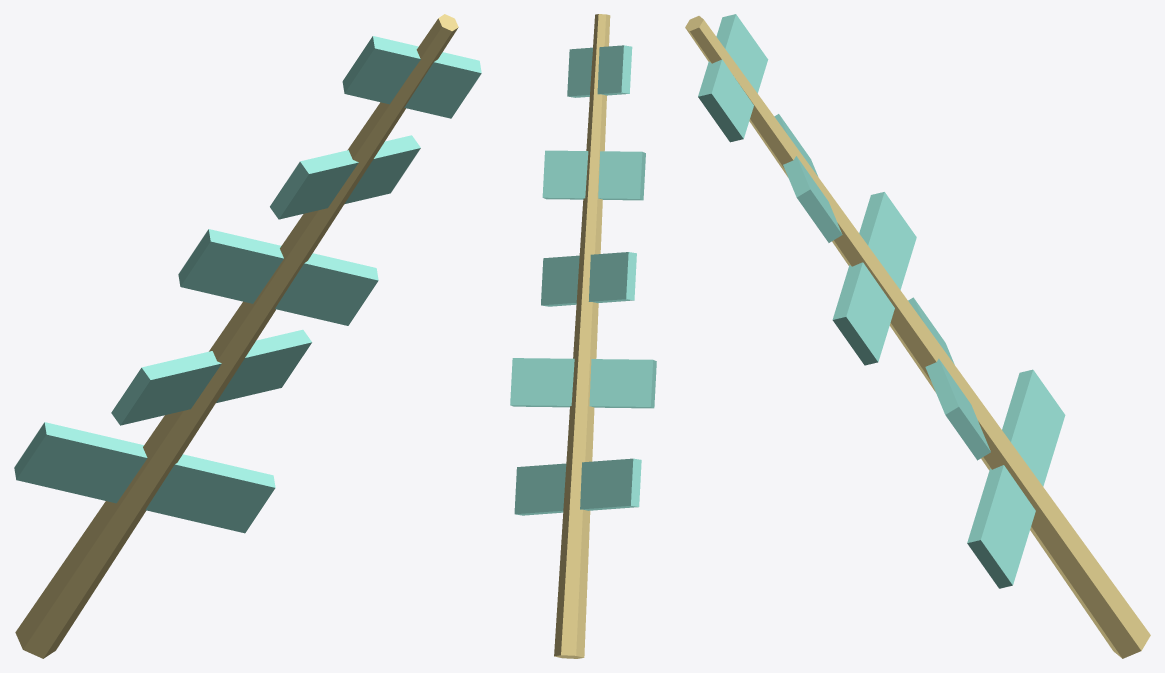
Rendered from feather.glb.
3 renders of one model, left to right at view 1: azimuth 30°, elevation 25°; view 2: azimuth 150°, elevation 25°; view 3: azimuth 270°, elevation 25°, orthographic. The views are drawn at different scales.
Parts seen in each view (by area): view 1: feather; view 2: feather; view 3: feather.
Boxes of the visible parts, left/top/right/bottom form: feather: left=14, top=14, right=481, bottom=658; feather: left=510, top=14, right=656, bottom=658; feather: left=685, top=14, right=1150, bottom=658.
Bounding box in the file's own units: 0.1153 × 0.2947 × 0.1735.
